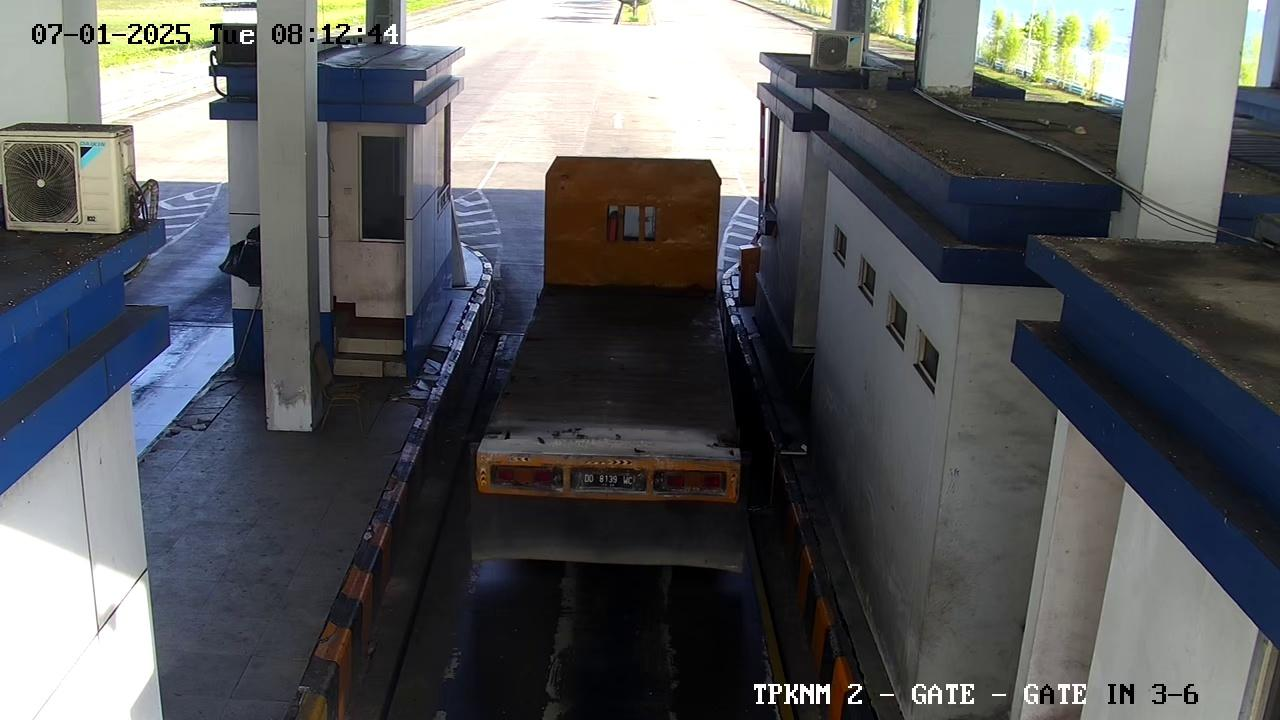plate_number: (576, 464, 640, 502)
